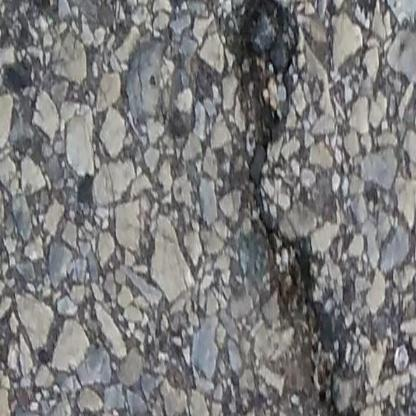Cracks: (230, 0, 370, 416)
